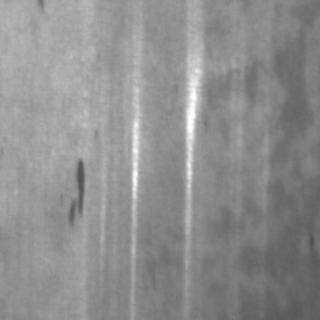inclusion: (66, 154, 88, 226)
scratches: (178, 13, 205, 309), (125, 78, 147, 318)
